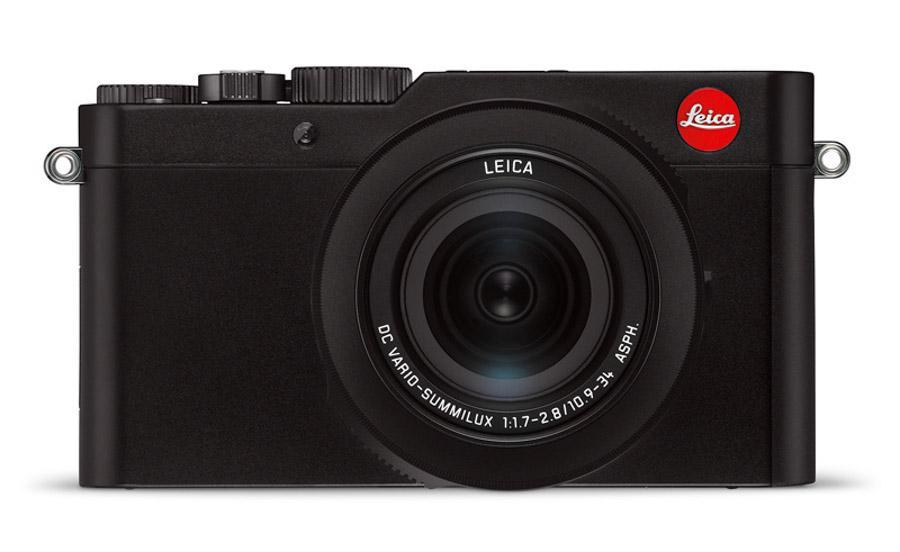degital-camera: (34, 62, 854, 503)
